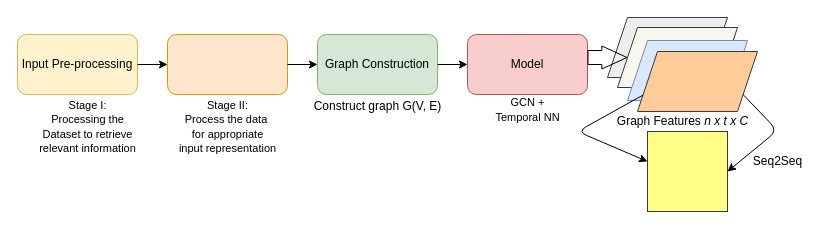
This 825x229 diagram has some shape labels left out. Here are the shapes that lost their labels. From the top down, the centre of each, then its label:
At (x=227, y=64): "Input processing".
At (x=687, y=171): "Trajectory Predictions".
